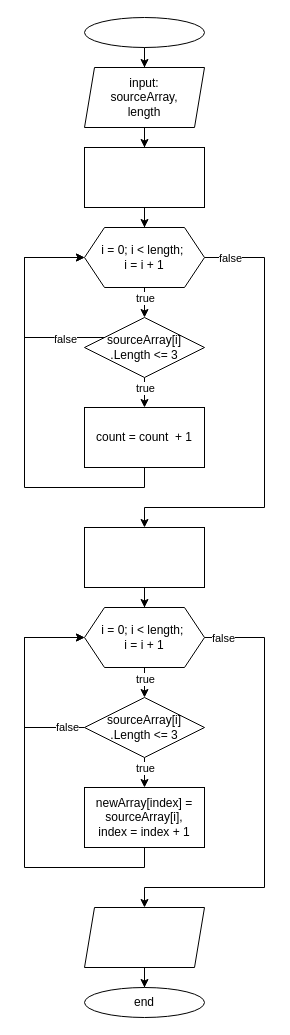
Image size: 290x1035. Some labels were removed from this diagram. The centre of each missing label's shape, as x and y in pixels:
"count = 0" belongs at (144,177).
"newArray[count], index = 0" belongs at (144,557).
"output: newArray" belongs at (144,937).
"start" belongs at (144,32).
